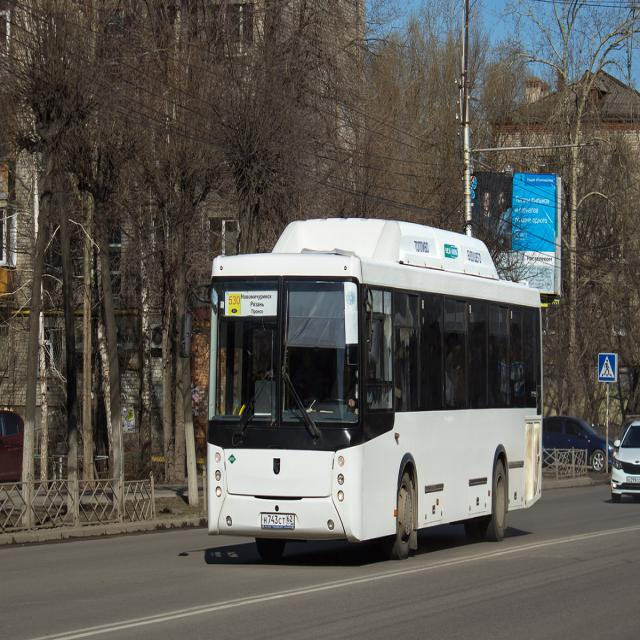number-of-bus: (229, 293, 242, 308)
